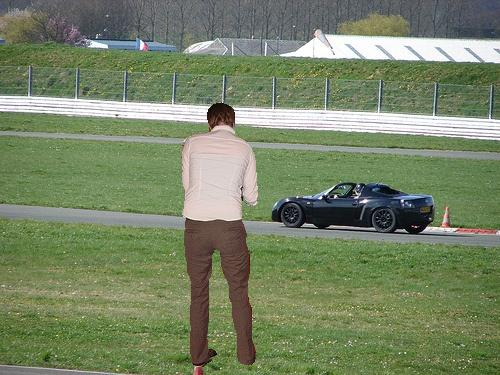tampered: (182, 104, 258, 367)
